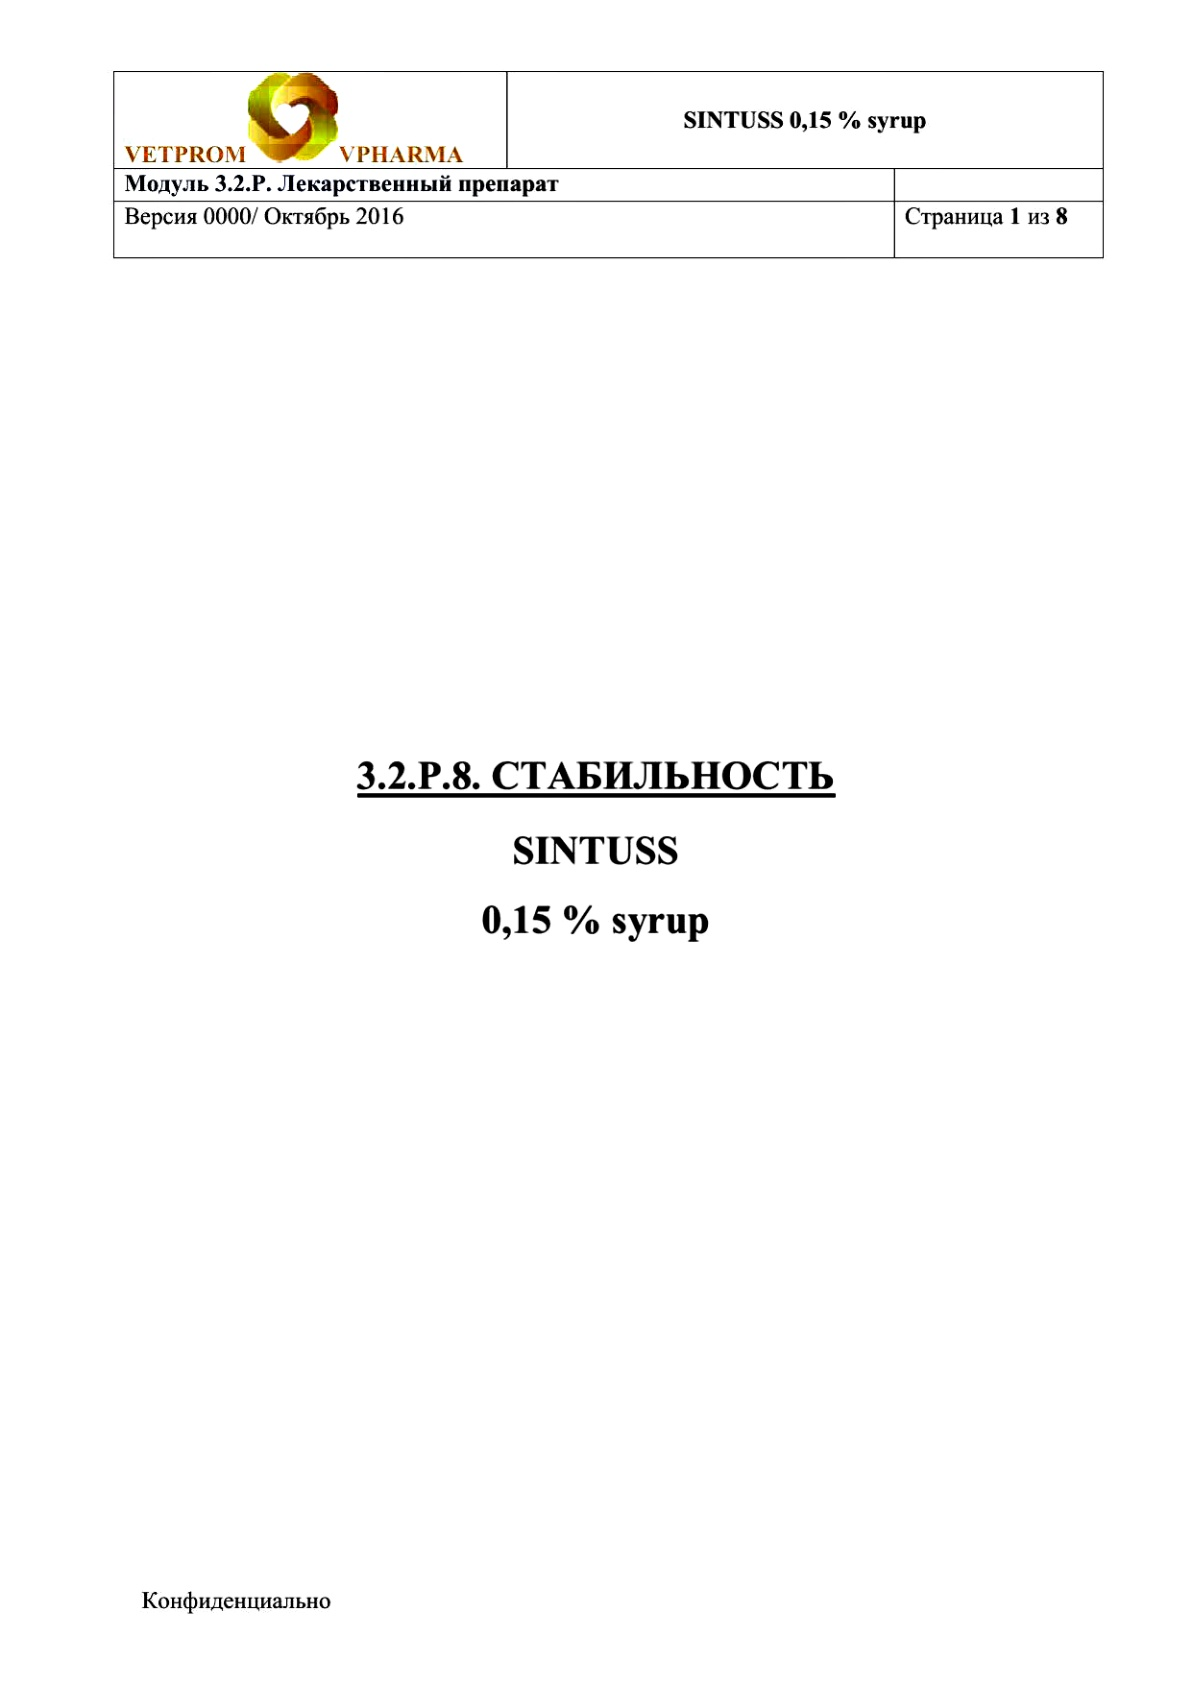merged_cells: (112, 68, 1104, 260)
